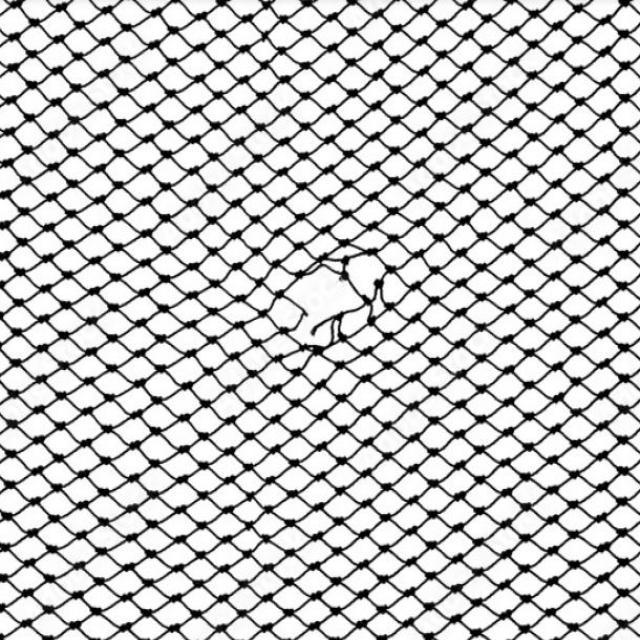fence line: (259, 231, 394, 380)
